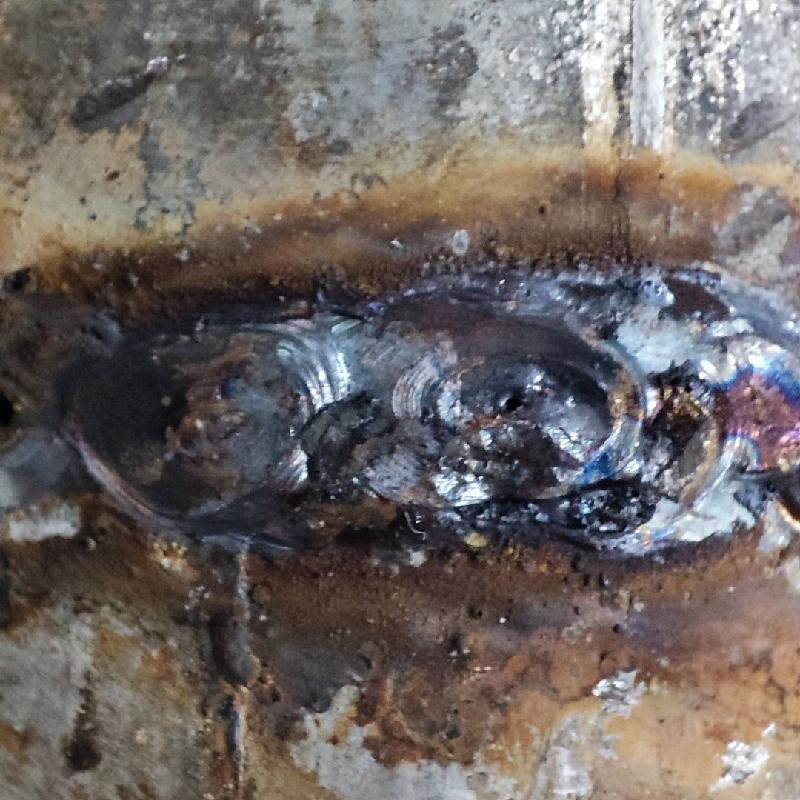Surface_pores: (483, 378, 533, 422)
crater: (358, 268, 799, 555)
wrong_size: (1, 278, 358, 540)
